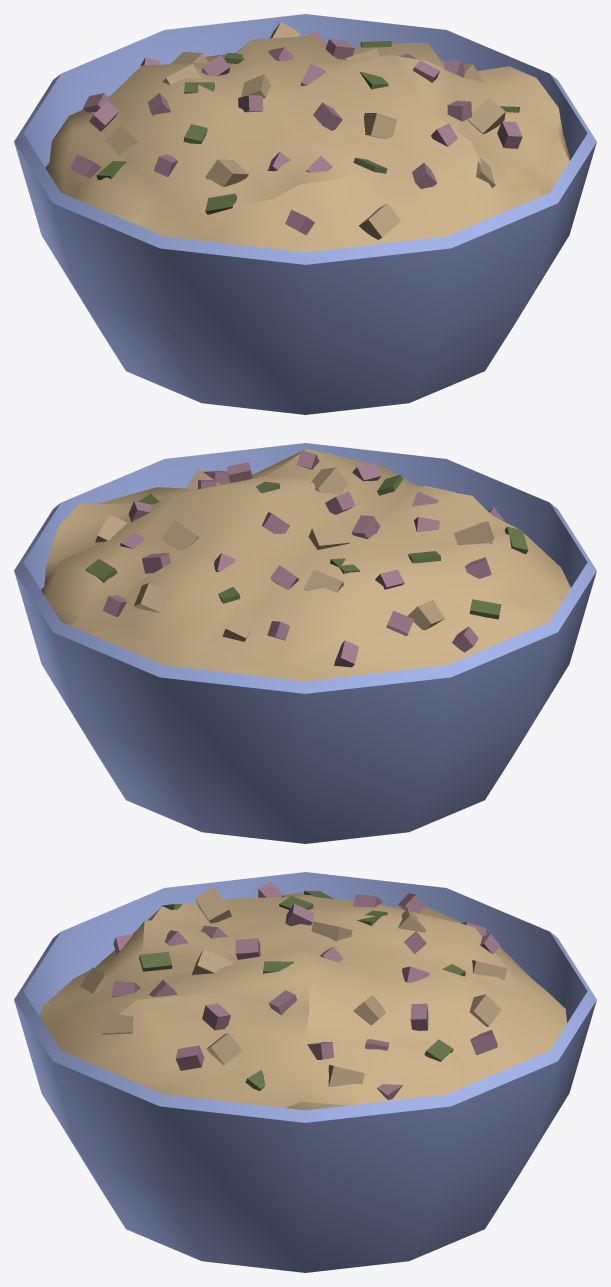
The model's file is salad1.fbx.
The picture shows the model from 3 angles, top to bottom: view 1: azimuth 30°, elevation 25°; view 2: azimuth 150°, elevation 25°; view 3: azimuth 270°, elevation 25°; orthographic projection.
Visible parts, largest first — view 1: salad1; view 2: salad1; view 3: salad1.
Part boxes in pixels (x1,y1,x2,y2): salad1: (14, 14, 596, 414); salad1: (14, 443, 596, 843); salad1: (14, 872, 596, 1272).
Bounding box in the file's own units: 29.8 × 14.18 × 29.8.
